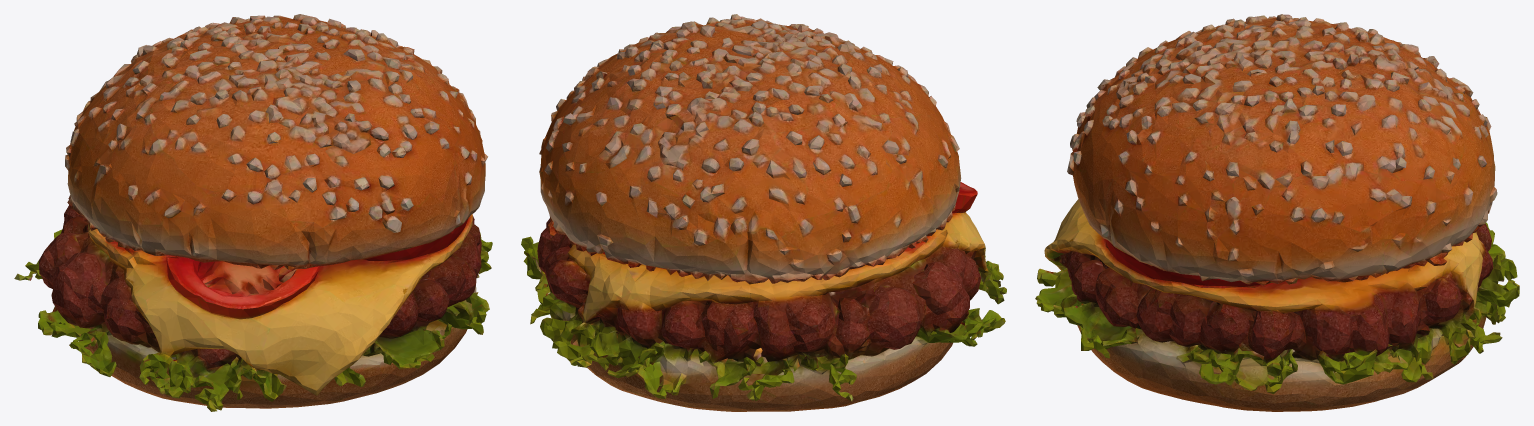
The model's file is head (171).glb.
3 renders of one model, left to right at view 1: azimuth 30°, elevation 25°; view 2: azimuth 150°, elevation 25°; view 3: azimuth 270°, elevation 25°, orthographic. The views are drawn at different scales.
Parts seen in each view (by area): view 1: Hy21_Mesh.obj; view 2: Hy21_Mesh.obj; view 3: Hy21_Mesh.obj.
Part boxes in pixels (box(x1,y1,x2,y2)): Hy21_Mesh.obj: box(14, 14, 492, 411); Hy21_Mesh.obj: box(521, 14, 1006, 411); Hy21_Mesh.obj: box(1035, 14, 1519, 411).
Size of the model in its own units: 1.95 by 1.24 by 1.88.
Materials: 1 (1 with a texture image).
